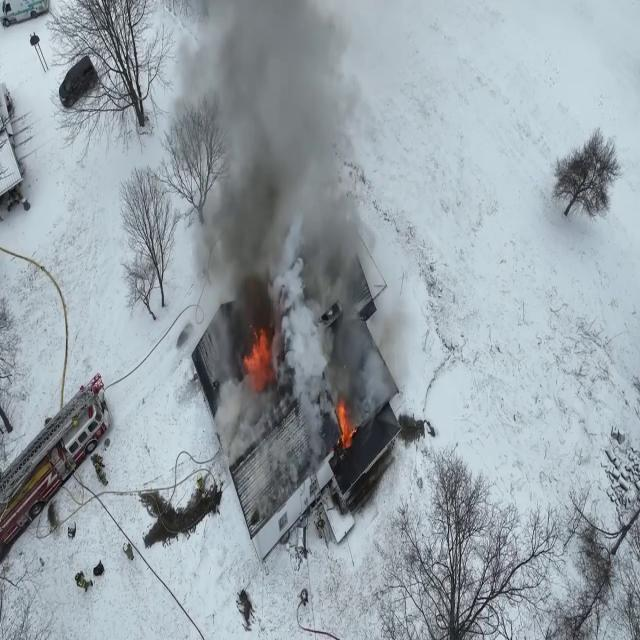Fire: (240, 319, 278, 390), (332, 394, 357, 451)
Smoke: (158, 1, 402, 433)
